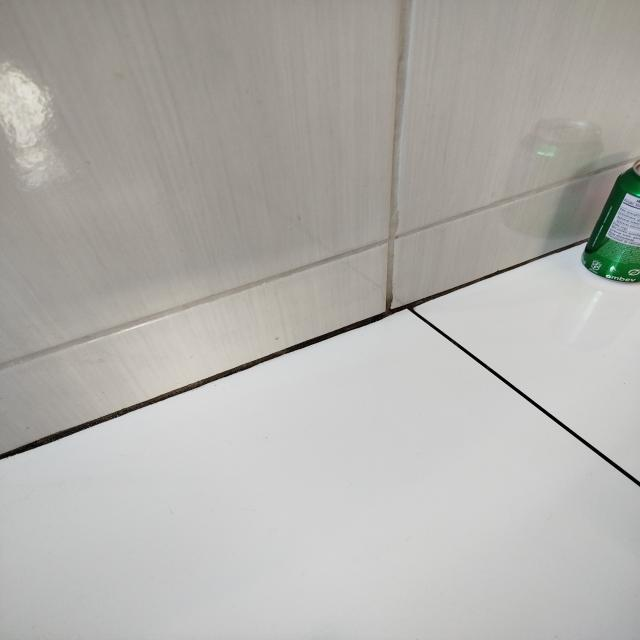Guarana: (579, 155, 640, 287)
